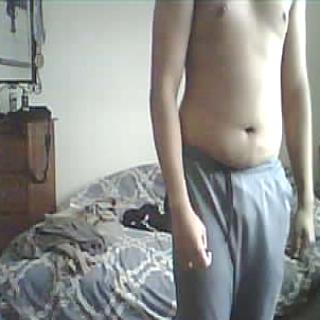Blue Sweatpants: (172, 140, 296, 320)
